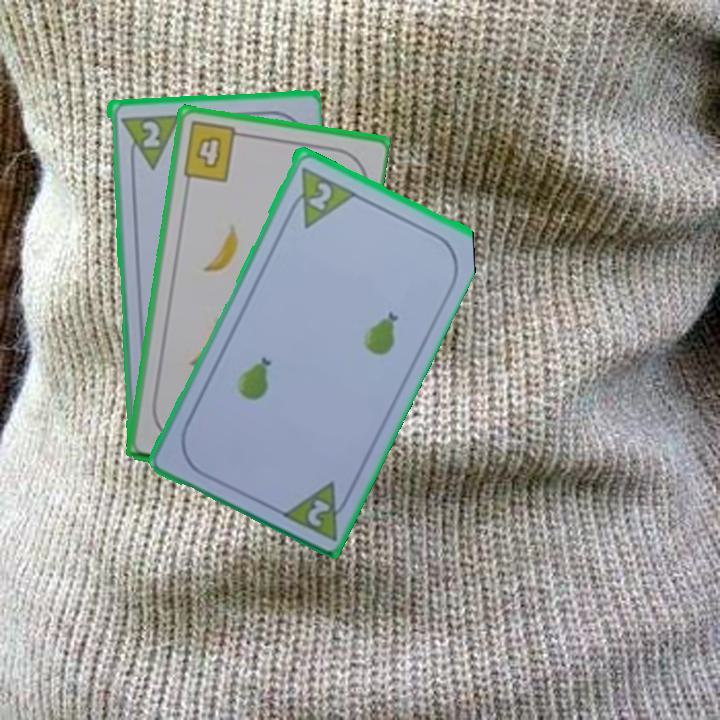2p: (116, 110, 180, 172), (305, 177, 335, 213), (303, 494, 333, 529)
4b: (179, 118, 248, 185)
